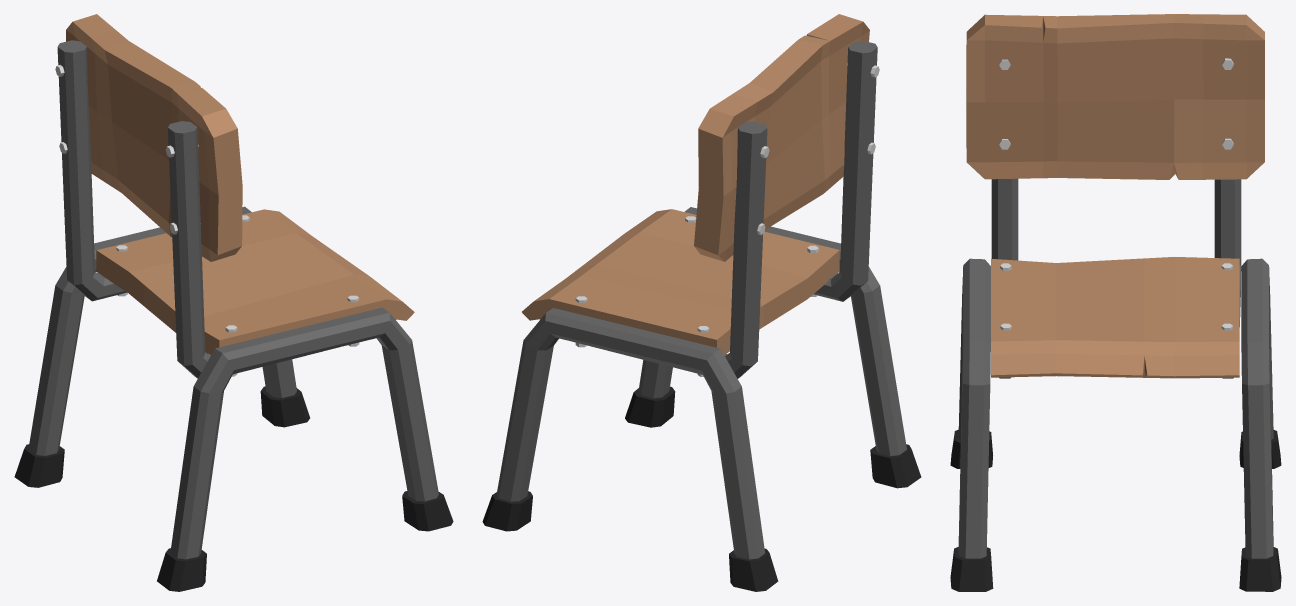
The model's file is chair.fbx.
The picture shows the model from 3 angles, left to right: view 1: azimuth 30°, elevation 25°; view 2: azimuth 150°, elevation 25°; view 3: azimuth 270°, elevation 25°; orthographic projection.
Visible parts, largest first — view 1: Perna 02.001; view 2: Perna 02.001; view 3: Perna 02.001.
Part boxes in pixels (left/top/right/bottom): Perna 02.001: left=14, top=14, right=453, bottom=591; Perna 02.001: left=482, top=14, right=921, bottom=591; Perna 02.001: left=950, top=14, right=1281, bottom=591.
Size of the model in its own units: 325 by 498 by 324.
